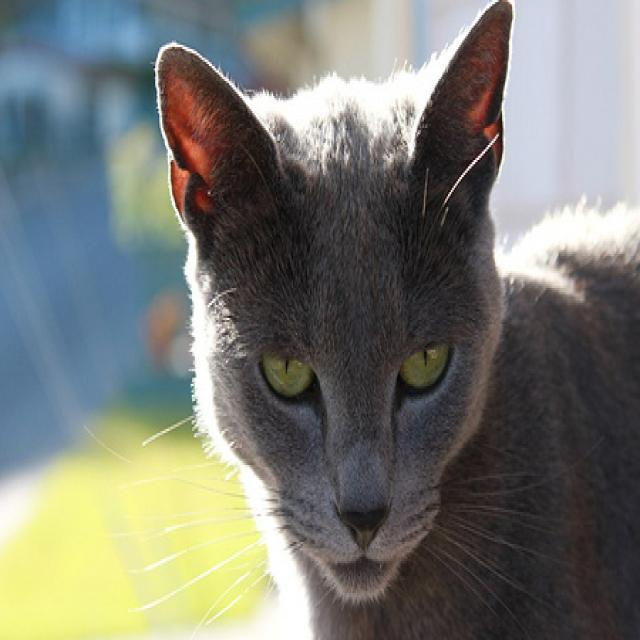Russian Blue: (152, 0, 640, 640)
